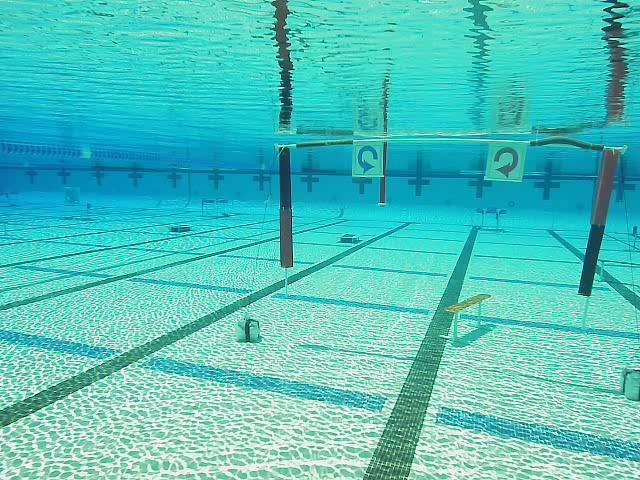dropper: (168, 221, 192, 235), (338, 231, 360, 244)
gate: (278, 136, 623, 297)
gate_blue: (352, 144, 384, 177)
gate_leg_l: (280, 145, 293, 268)
gate_leg_r: (578, 146, 619, 297)
gate_red: (484, 144, 526, 182)
table: (476, 207, 508, 234)
